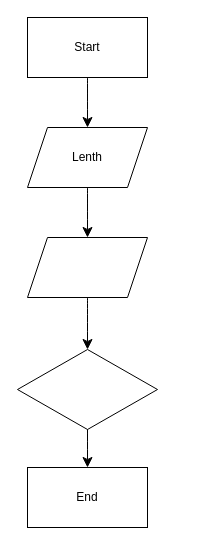
Image size: 207x545. Some labels were removed from this diagram. The box of each missing label's shape, as (x1, y1, x2, y2) in pixels:
Area = length * width: (16, 348, 158, 430)
Width: (26, 236, 148, 298)
